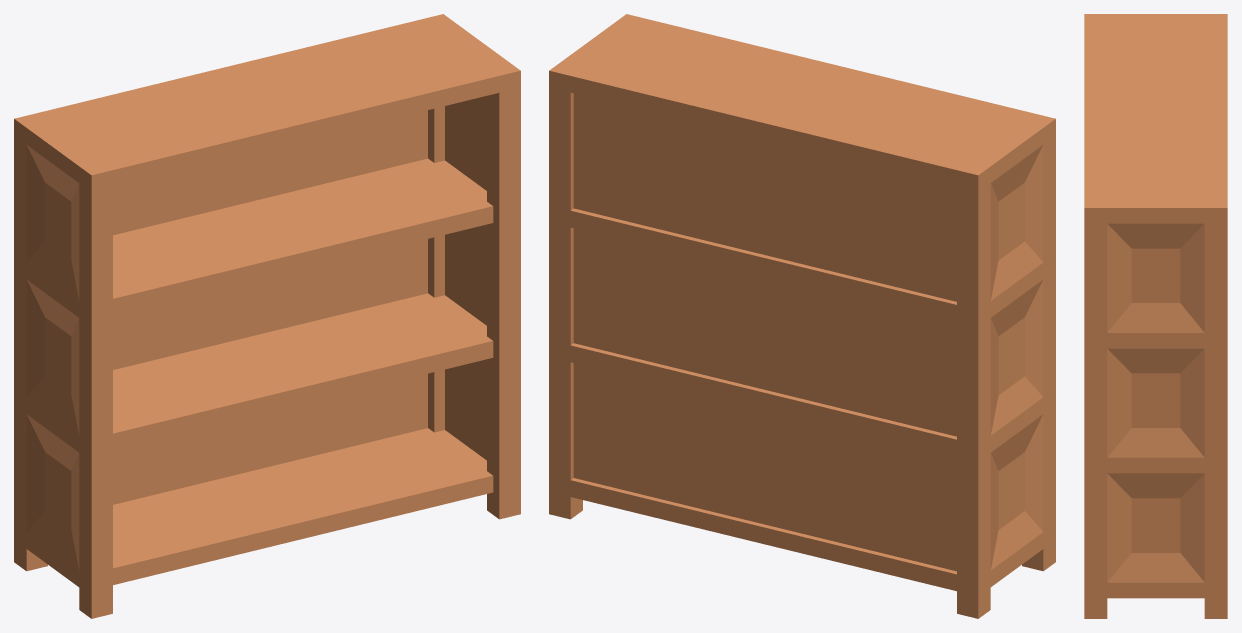
File: Bookcase Closed Wide.glb
The picture shows the model from 3 angles, left to right: view 1: azimuth 30°, elevation 25°; view 2: azimuth 150°, elevation 25°; view 3: azimuth 270°, elevation 25°; orthographic projection. The views are drawn at different scales.
Visible parts, largest first — view 1: bookcaseClosedWide(Clone); view 2: bookcaseClosedWide(Clone); view 3: bookcaseClosedWide(Clone).
Part boxes in pixels (x1=…): bookcaseClosedWide(Clone): x1=14, y1=14, x2=520, y2=618; bookcaseClosedWide(Clone): x1=549, y1=14, x2=1055, y2=618; bookcaseClosedWide(Clone): x1=1084, y1=14, x2=1227, y2=618.
Bounding box in the file's own units: 0.8 × 0.79 × 0.25.
